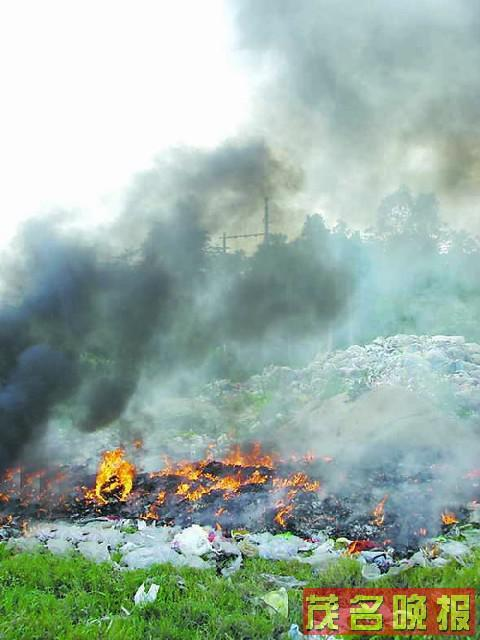fire: (82, 438, 326, 530), (358, 496, 416, 552), (433, 499, 464, 533)
